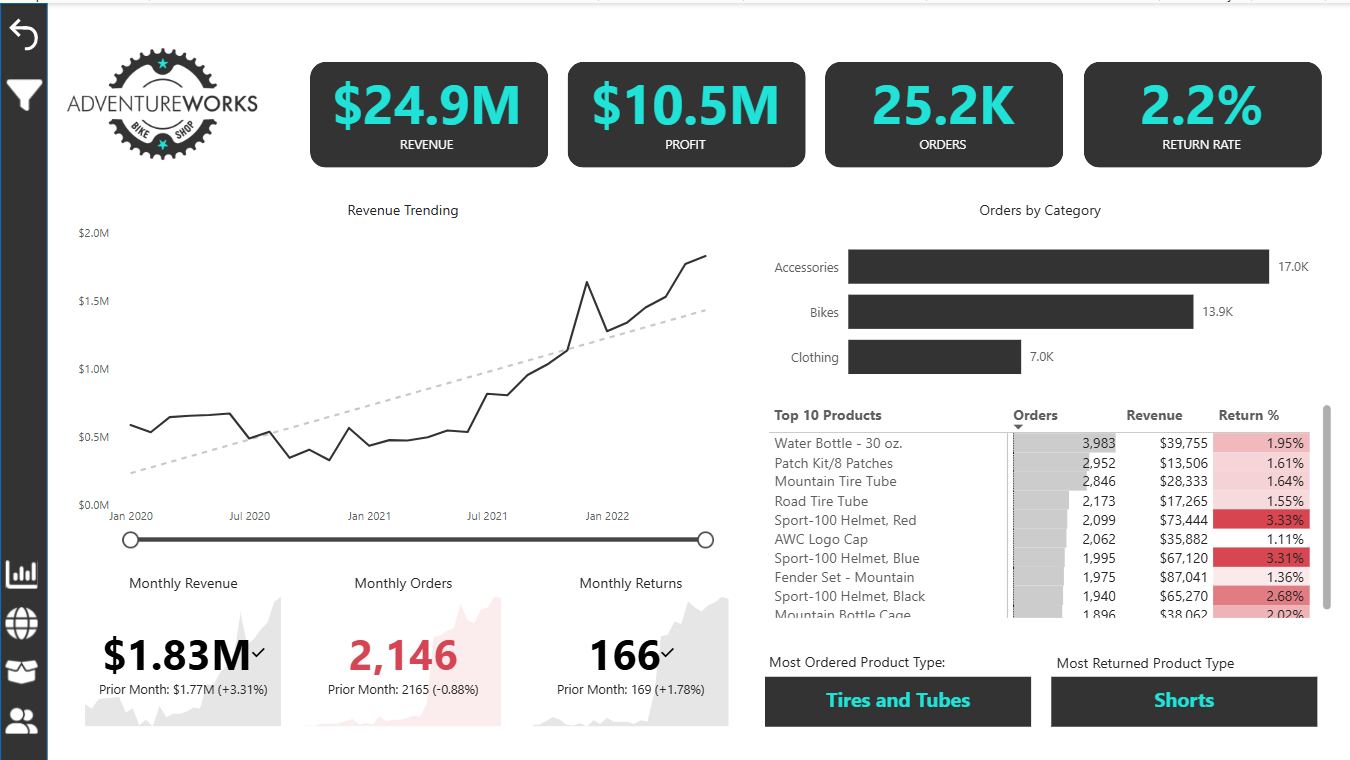

Layout of this report page (visuals, bound fields, positions):
{"tool":"powerbi","page":{"name":"Exec Dashboard","canvas":[1280,720],"ordinal":0},"visuals":[{"type":"card","fields":{"Values":["Measure Table.Total Revenue"]},"box":[287.5,20,230,150],"z":0,"group":"g2"},{"type":"image","title":"AW logo","box":[38.8,35,230,120],"z":0},{"type":"group","id":"g1","title":"KPI Backgrounds","box":[292.5,50,955,100],"z":0,"group":"g3"},{"type":"shape","box":[1022.5,50,225,100],"z":0,"group":"g1"},{"type":"actionButton","box":[1.2,520.4,45.3,38.3],"z":0,"group":"g4"},{"type":"shape","title":"Left Nav Background","box":[0,0,45,720],"z":1000},{"type":"group","id":"g2","title":"KPI Values","box":[287.5,20,961.2,150],"z":1000,"group":"g3"},{"type":"card","fields":{"Values":["Measure Table.Total Profit"]},"box":[531.3,20,230,150],"z":1000,"group":"g2"},{"type":"shape","box":[779.2,50,225,100],"z":1000,"group":"g1"},{"type":"actionButton","box":[1.2,566.9,45.3,38.3],"z":1000,"group":"g4"},{"type":"group","id":"g3","title":"KPIs","box":[287.5,20,961.2,150],"z":2000},{"type":"card","fields":{"Values":["Measure Table.Total Orders"]},"box":[775,20,230,150],"z":2000,"group":"g2"},{"type":"shape","box":[535.8,50,225,100],"z":2000,"group":"g1"},{"type":"actionButton","box":[1.2,612.2,45.3,38.3],"z":2000,"group":"g4"},{"type":"card","fields":{"Values":["Measure Table.Return Rate"]},"box":[1018.7,20,230,150],"z":3000,"group":"g2"},{"type":"shape","box":[292.5,50,225,100],"z":3000,"group":"g1"},{"type":"lineChart","title":"Revenue Trending","fields":{"Y":["Measure Table.Total Revenue"],"Category":["Calendar Lookup.Year","Calendar Lookup.Start of Quarter","Calendar Lookup.Start of Month"]},"box":[68.8,185,623.8,332.5],"z":3000},{"type":"actionButton","box":[1.2,658.6,45.3,38.3],"z":3000,"group":"g4"},{"type":"kpi","title":"Monthly Revenue","fields":{"Indicator":["Measure Table.Total Revenue"],"TrendLine":["Calendar Lookup.Start of Month"],"Goal":["Measure Table.Previous Month Revenue"]},"box":[75,537.5,195,150],"z":4000},{"type":"kpi","title":"Monthly Orders","fields":{"TrendLine":["Calendar Lookup.Start of Month"],"Indicator":["Measure Table.Total Orders"],"Goal":["Measure Table.Previous Month Orders"]},"box":[283.8,537.5,195,150],"z":5000},{"type":"kpi","title":"Monthly Returns","fields":{"TrendLine":["Calendar Lookup.Start of Month"],"Goal":["Measure Table.Previous Month Returns"],"Indicator":["Measure Table.Total Returns"]},"box":[497.5,537.5,195,150],"z":6000},{"type":"clusteredBarChart","title":"Orders by Category","fields":{"Category":["Product Category Lookup.CategoryName"],"Y":["Measure Table.Total Orders"]},"box":[721.4,184.8,521.9,189],"z":7000},{"type":"pivotTable","fields":{"Rows":["Product Lookup.ProductName"],"Values":["Measure Table.Total Orders","Measure Table.Total Revenue","Measure Table.Return Rate"]},"box":[721.2,373.8,541.2,211.2],"z":8000},{"type":"card","fields":{"Values":["Min(Product Subcategory Lookup.SubcategoryName)"]},"box":[722.5,636.2,251.2,47.5],"z":9000},{"type":"textbox","box":[721.1,607.8,230,27.8],"z":10000},{"type":"textbox","box":[992.2,608.9,234.4,27.8],"z":11000},{"type":"card","fields":{"Values":["Min(Product Subcategory Lookup.SubcategoryName)"]},"box":[992.5,636.2,251.2,47.5],"z":12000},{"type":"actionButton","box":[2.8,9.7,44.5,40.3],"z":13000},{"type":"group","id":"g4","title":"Navigation Buttons","box":[1.2,520.4,45.3,176.6],"z":14000},{"type":"actionButton","box":[2.8,63.9,41.7,45.9],"z":15000}]}

Visuals, with their boxes on the page's 1280x720 design canvas (x1, y1, x2, y2). These are canvas units, not pixel positions in the 1350x760 screenshot, which may show the page scaled, cropped or inside an application window:
card - Measure Table.Total Revenue: x1=288, y1=20, x2=518, y2=170
"AW logo" image: x1=39, y1=35, x2=269, y2=155
"KPI Backgrounds" group: x1=292, y1=50, x2=1248, y2=150
shape: x1=1022, y1=50, x2=1248, y2=150
actionButton: x1=1, y1=520, x2=46, y2=559
"Left Nav Background" shape: x1=0, y1=0, x2=45, y2=720
"KPI Values" group: x1=288, y1=20, x2=1249, y2=170
card - Measure Table.Total Profit: x1=531, y1=20, x2=761, y2=170
shape: x1=779, y1=50, x2=1004, y2=150
actionButton: x1=1, y1=567, x2=46, y2=605
"KPIs" group: x1=288, y1=20, x2=1249, y2=170
card - Measure Table.Total Orders: x1=775, y1=20, x2=1005, y2=170
shape: x1=536, y1=50, x2=761, y2=150
actionButton: x1=1, y1=612, x2=46, y2=650
card - Measure Table.Return Rate: x1=1019, y1=20, x2=1249, y2=170
shape: x1=292, y1=50, x2=518, y2=150
"Revenue Trending" lineChart: x1=69, y1=185, x2=693, y2=518
actionButton: x1=1, y1=659, x2=46, y2=697
"Monthly Revenue" kpi: x1=75, y1=538, x2=270, y2=688
"Monthly Orders" kpi: x1=284, y1=538, x2=479, y2=688
"Monthly Returns" kpi: x1=498, y1=538, x2=692, y2=688
"Orders by Category" clusteredBarChart: x1=721, y1=185, x2=1243, y2=374
pivotTable - Product Lookup.ProductName x Measure Table.Total Orders: x1=721, y1=374, x2=1262, y2=585
card - Min(Product Subcategory Lookup.SubcategoryName): x1=722, y1=636, x2=974, y2=684
textbox: x1=721, y1=608, x2=951, y2=636
textbox: x1=992, y1=609, x2=1227, y2=637
card - Min(Product Subcategory Lookup.SubcategoryName): x1=992, y1=636, x2=1244, y2=684
actionButton: x1=3, y1=10, x2=47, y2=50
"Navigation Buttons" group: x1=1, y1=520, x2=46, y2=697
actionButton: x1=3, y1=64, x2=44, y2=110
